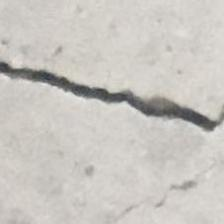Crack: (0, 49, 224, 159)
